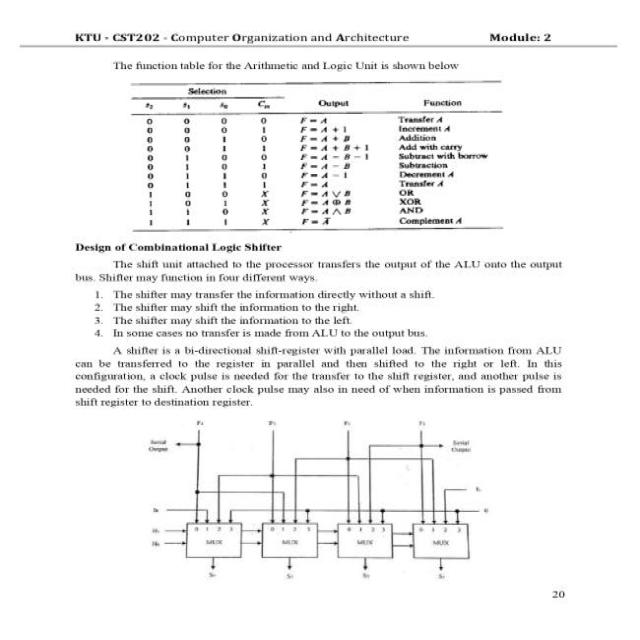Figure Detection - v3 Dataset Version2: (142, 412, 506, 584)
